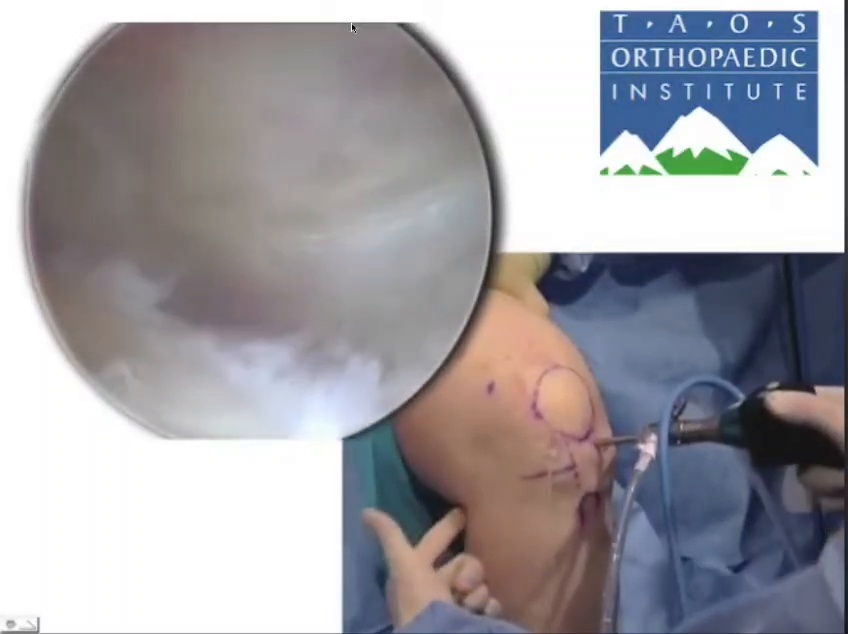arthroscope: (519, 272, 848, 634)
probe: (424, 492, 581, 634), (753, 374, 848, 450)
